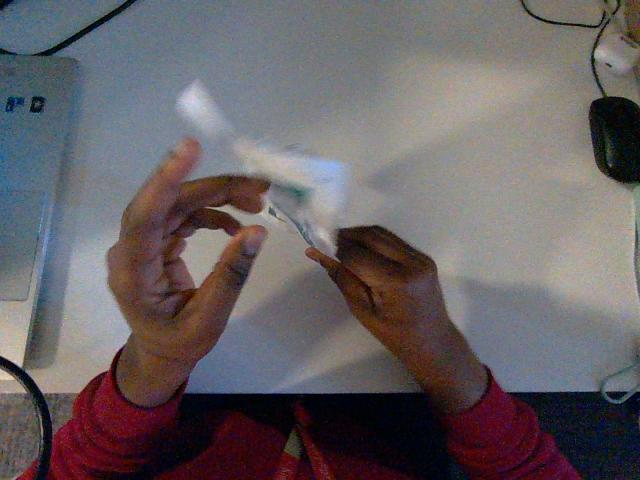gallipot: (177, 81, 349, 256)
